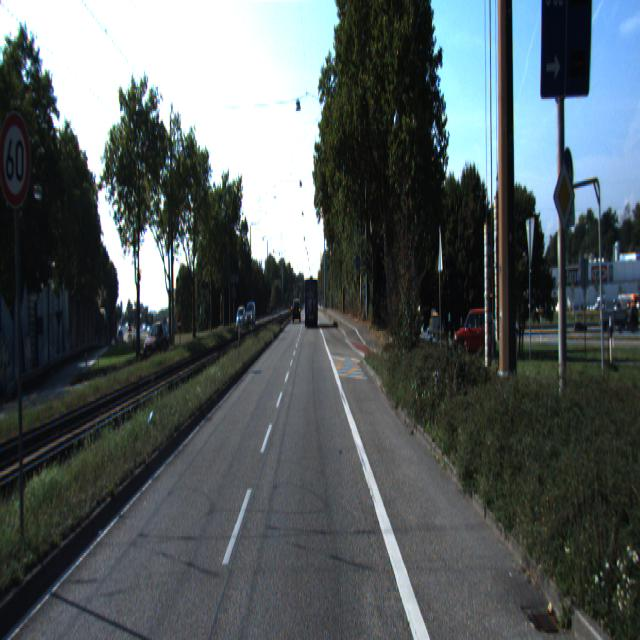Car: (454, 305, 496, 359), (142, 322, 171, 362), (305, 278, 319, 328)
